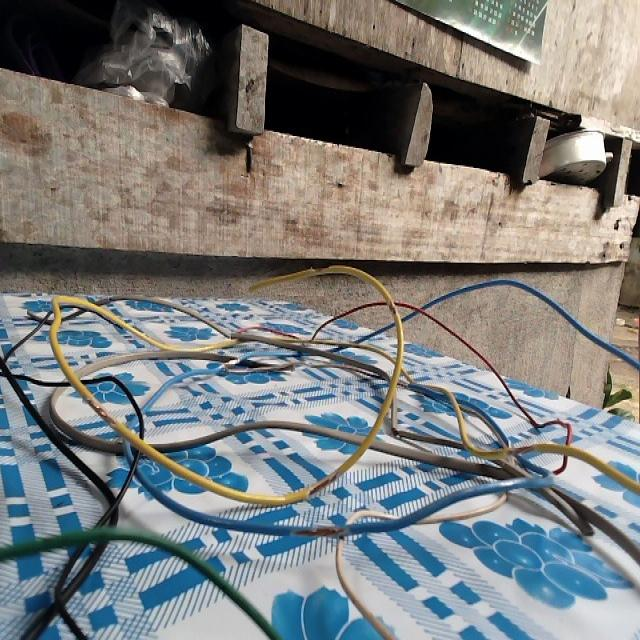-: (290, 521, 353, 544), (81, 388, 113, 428), (304, 468, 342, 496), (503, 440, 539, 455), (217, 354, 240, 374), (313, 263, 334, 277), (385, 296, 398, 317)
